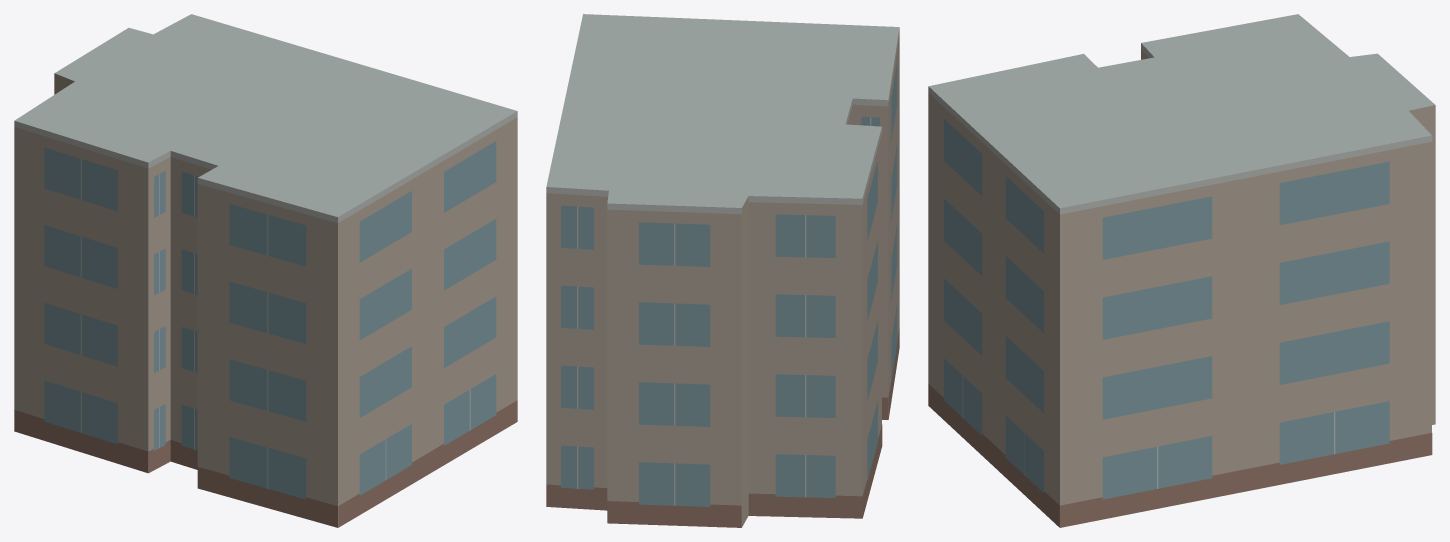
The model's file is survey-upis-32738399.glb.
The picture shows the model from 3 angles, left to right: view 1: azimuth 30°, elevation 25°; view 2: azimuth 150°, elevation 25°; view 3: azimuth 270°, elevation 25°; orthographic projection. The views are drawn at different scales.
Parts seen in each view (by area): view 1: survey-upis-32738399.tmp; view 2: survey-upis-32738399.tmp; view 3: survey-upis-32738399.tmp.
Part boxes in pixels (left/top/right/bottom): survey-upis-32738399.tmp: left=14, top=14, right=517, bottom=527; survey-upis-32738399.tmp: left=546, top=14, right=899, bottom=527; survey-upis-32738399.tmp: left=928, top=14, right=1435, bottom=527.
Size of the model in its own units: 16.45 by 12.6 by 18.14.
